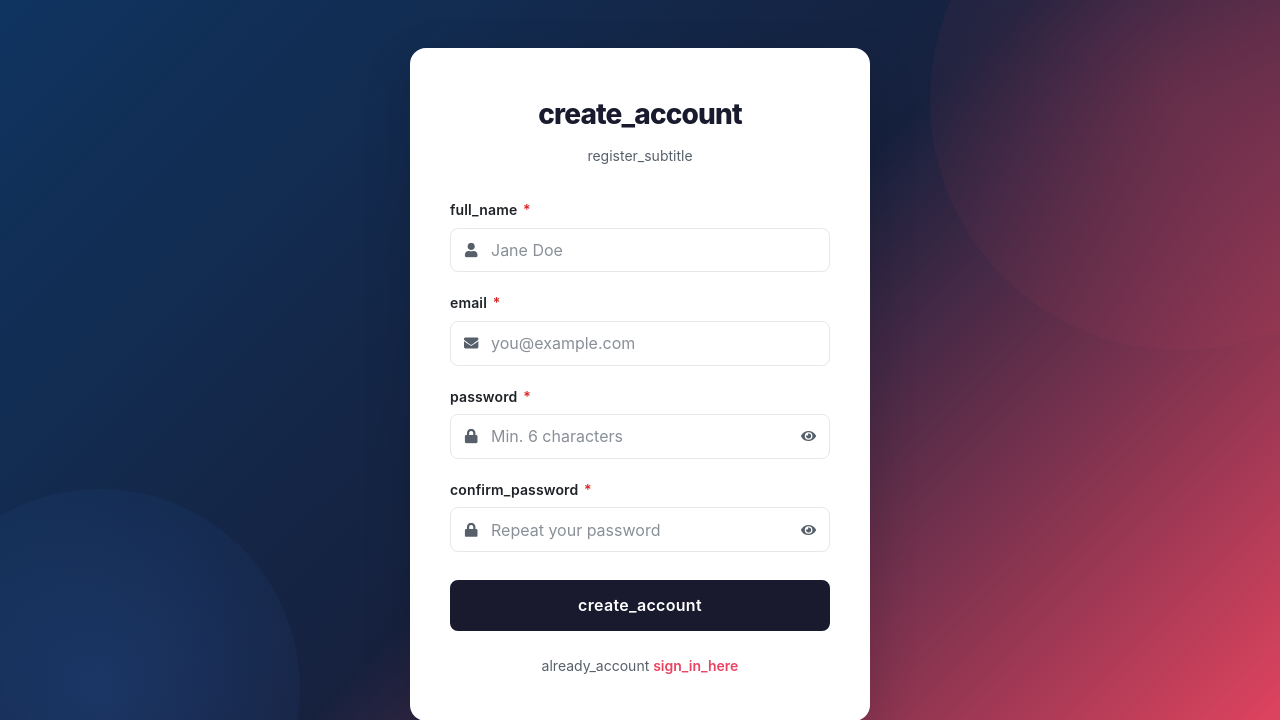
Test case: Register page › field validation › shows email_required when email is empty
This screenshot has width=1280, height=720.
Click the field labelled "email *" at (640, 343), box top-left (450, 321), bottom-right (830, 366)
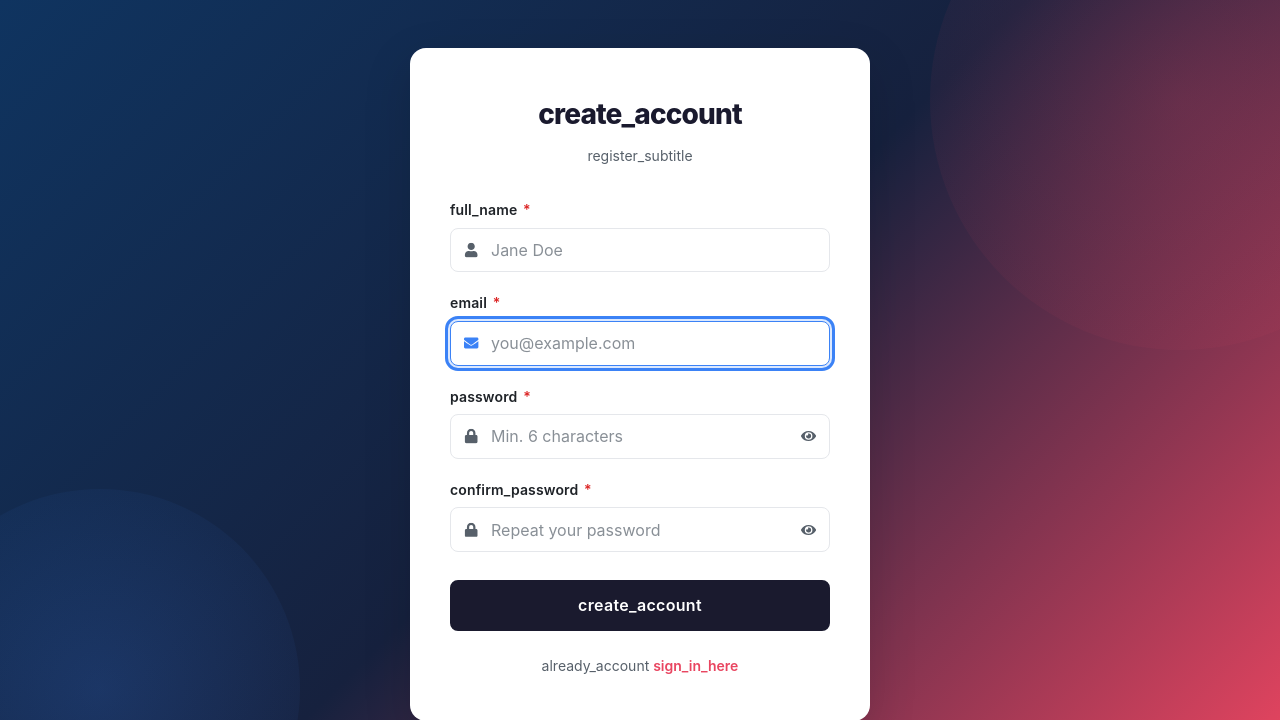
Press Tab
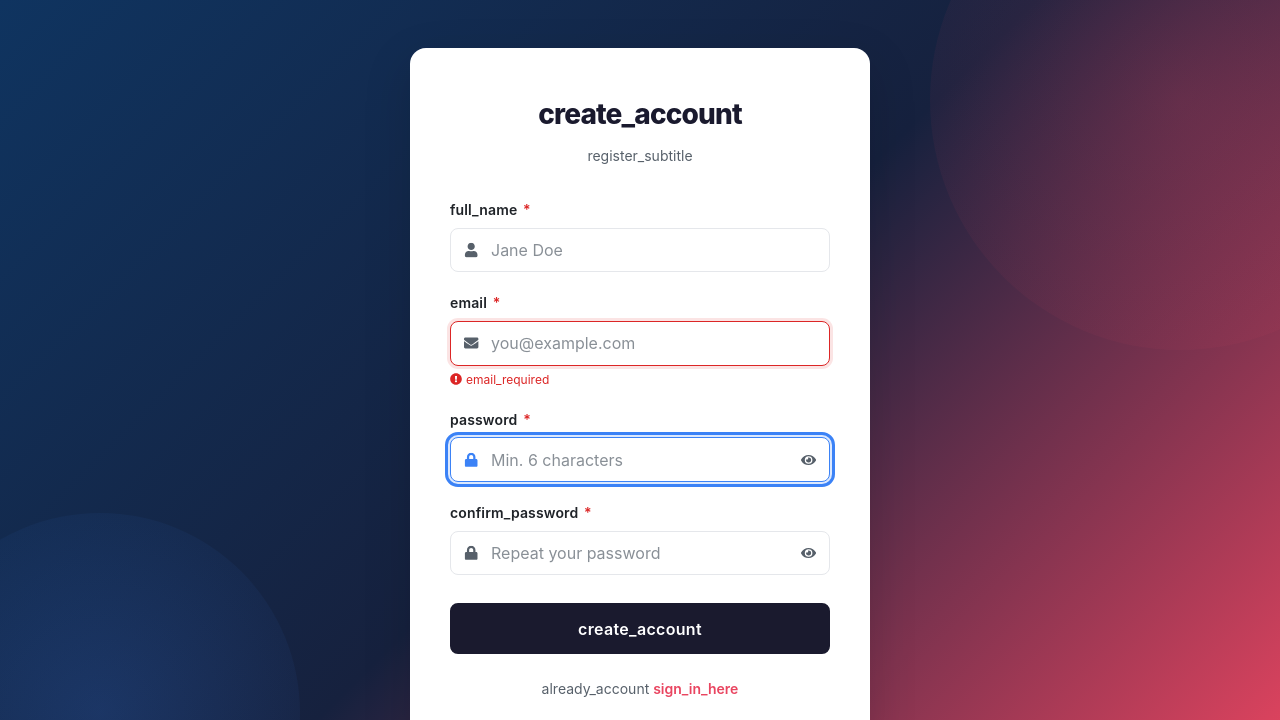
Expected: the message "email_required" is shown, top-left (450, 372), bottom-right (549, 386)
